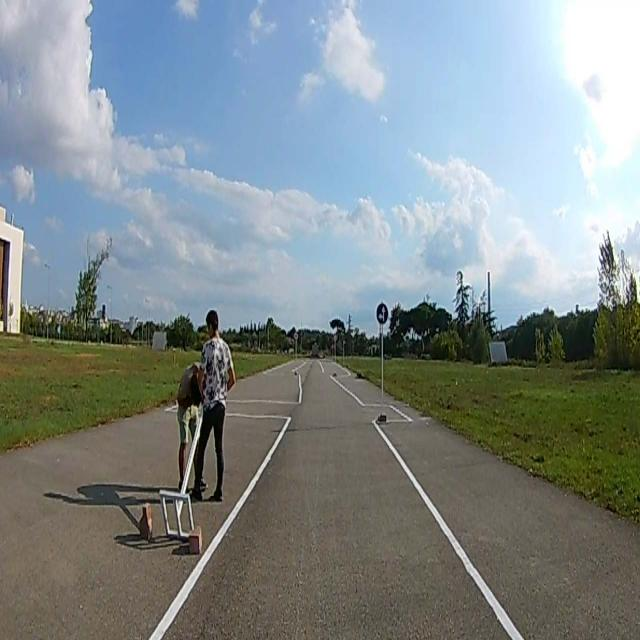ilerisol: (375, 304, 389, 324)
